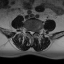CCS_normal: (30, 29, 33, 37)
LFS_severe_stenosis: (34, 29, 36, 33)
LLS_stenosis: (33, 30, 34, 34)
RFS_stenosis: (27, 29, 29, 33)
RLS_stenosis: (29, 29, 31, 35)
